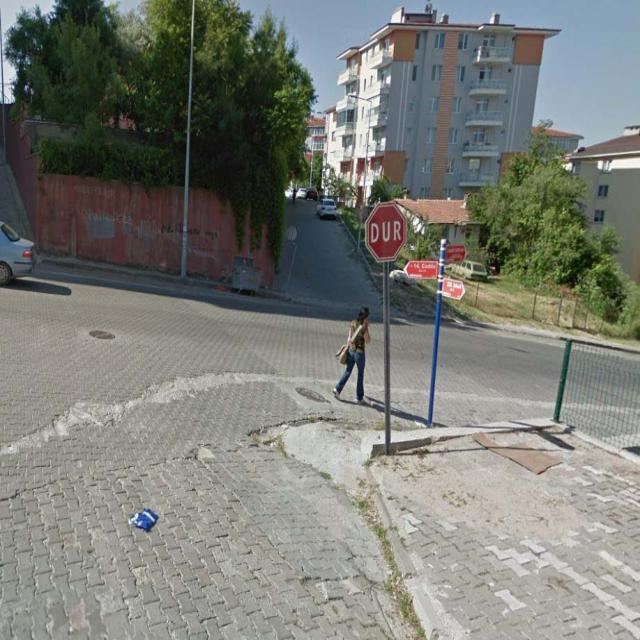dur: (365, 204, 404, 261)
